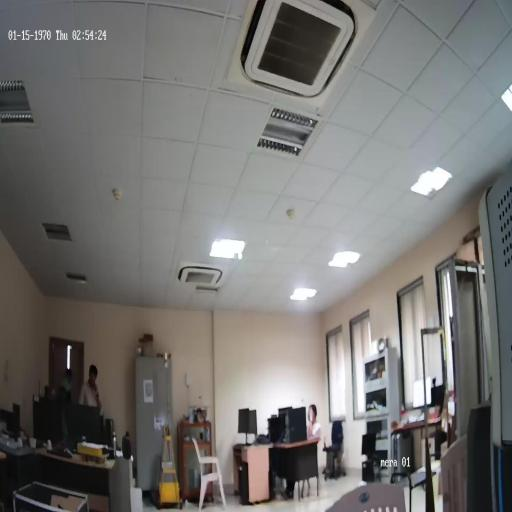laser: (237, 254, 245, 263)
